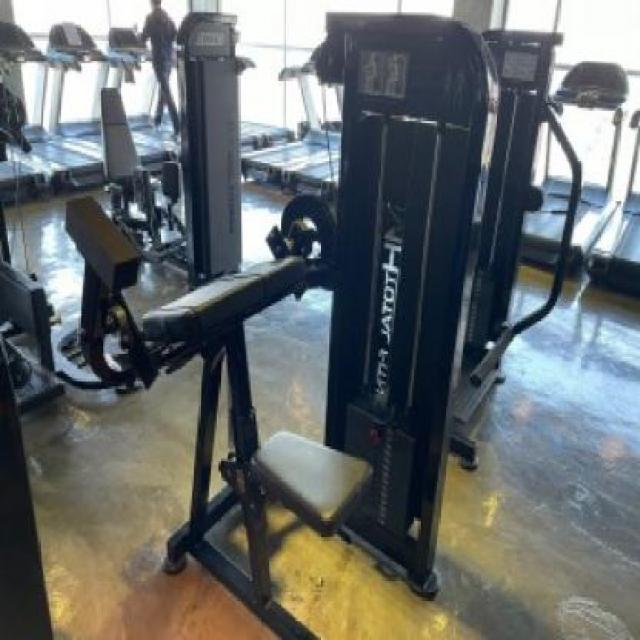arm curl machine: (138, 254, 476, 640)
